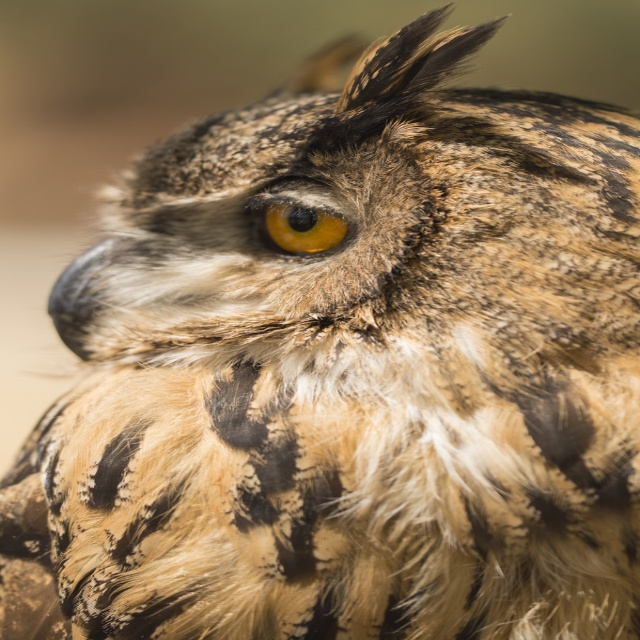Owl: (0, 1, 639, 640), (0, 3, 639, 640)
